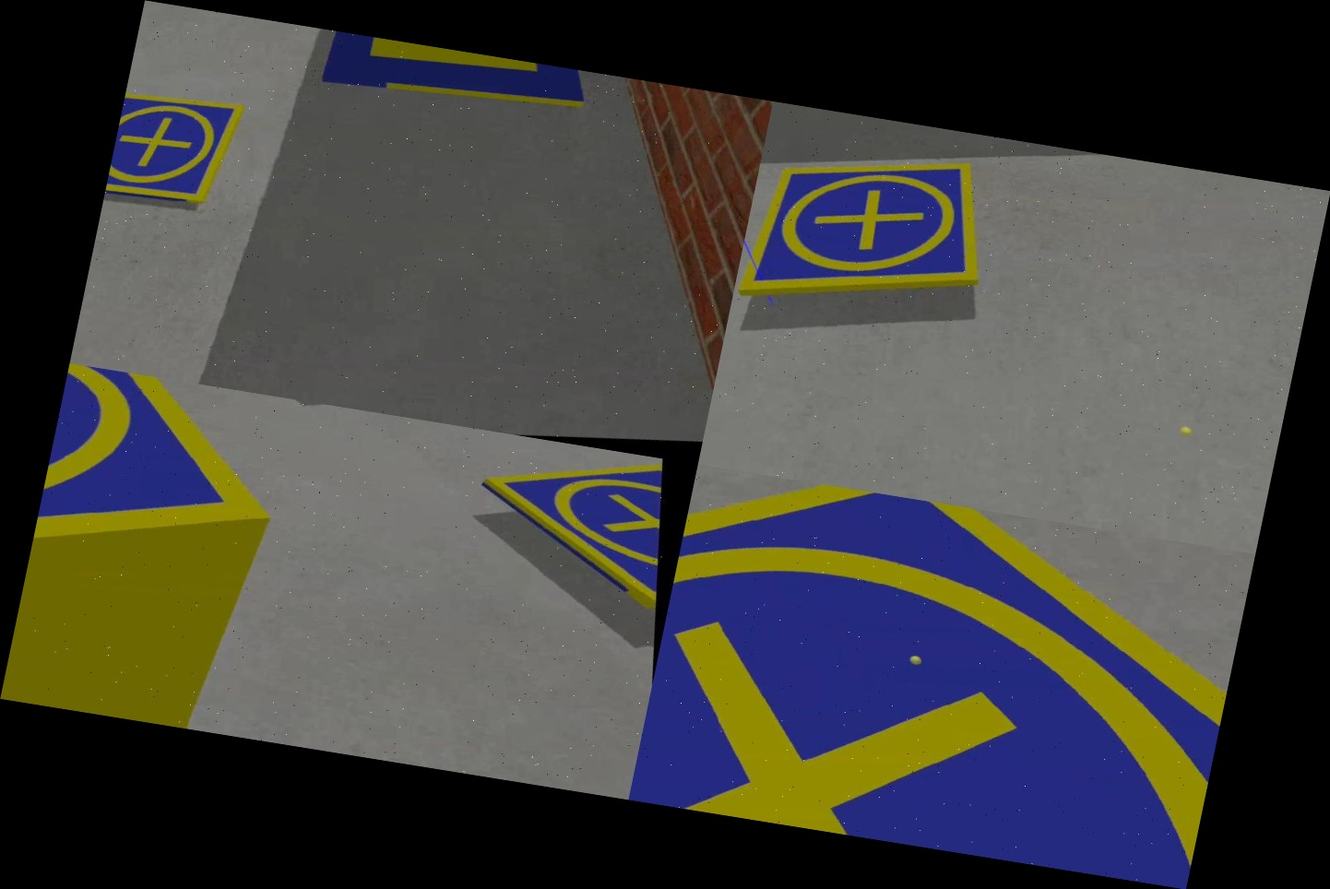large_base: (295, 27, 594, 138)
small_base: (628, 465, 1254, 889), (8, 363, 310, 697), (732, 127, 1008, 335), (453, 437, 687, 633), (101, 81, 266, 231)
